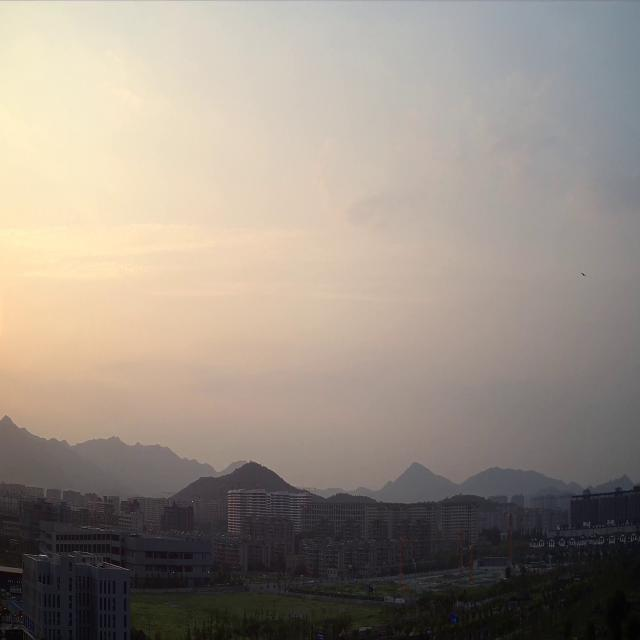UAV: (582, 272, 588, 276)
